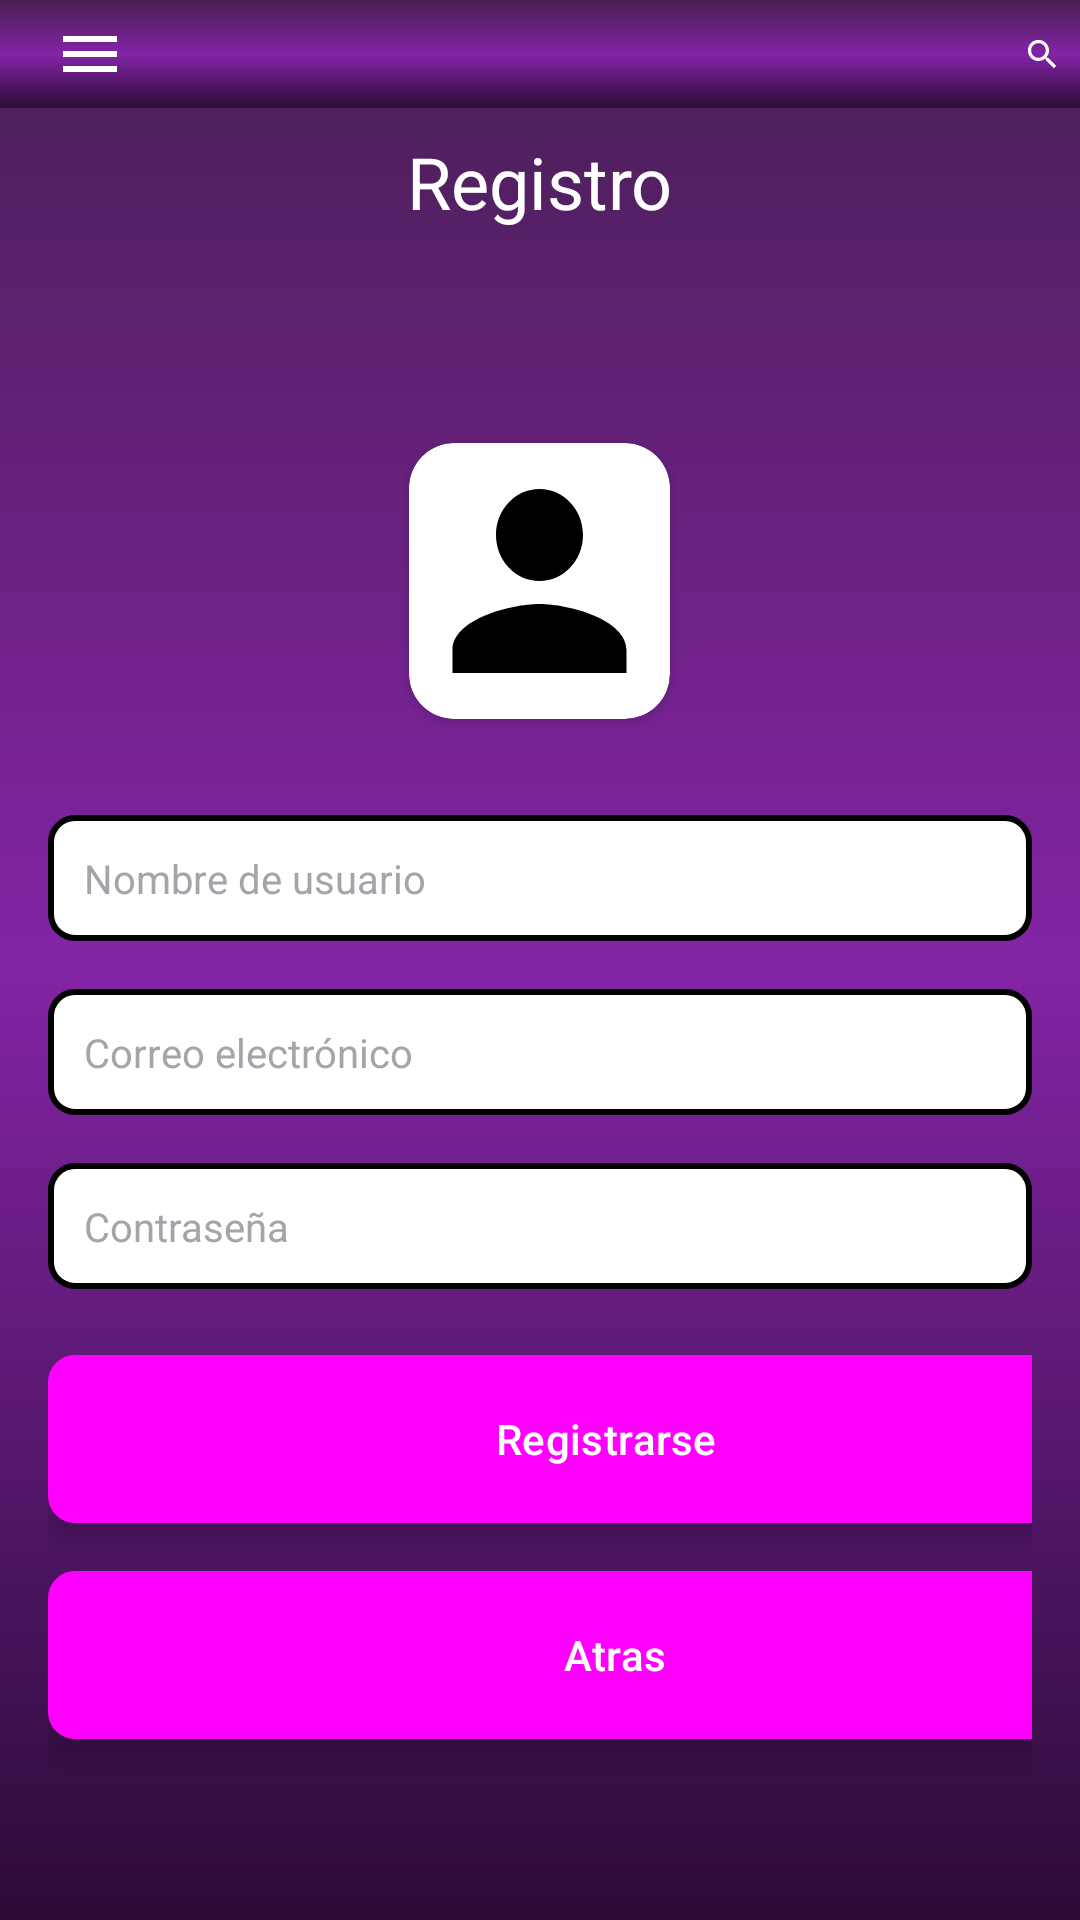

Named icons in this screenshot (1080px×1920px) and their bounding boxes, [left=x1, top=y1, right=x2, bottom=y2]:
lupa: [left=1023, top=32, right=1062, bottom=70]
menu: [left=54, top=32, right=126, bottom=72]
